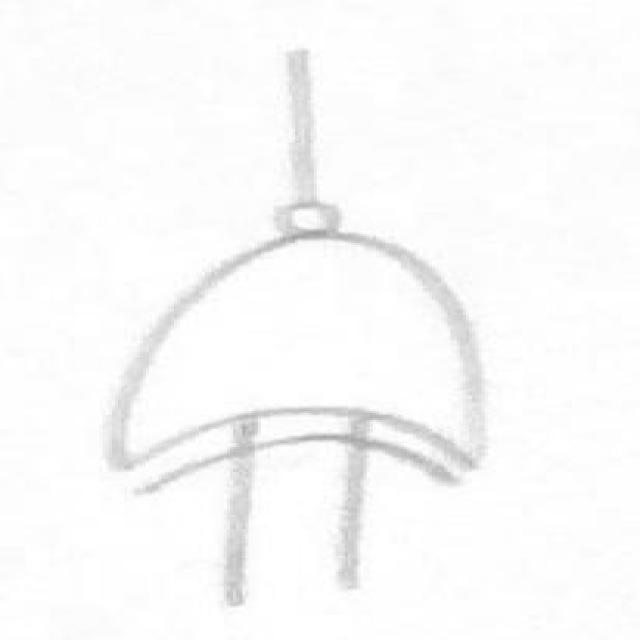XNOR: (64, 197, 554, 493)
